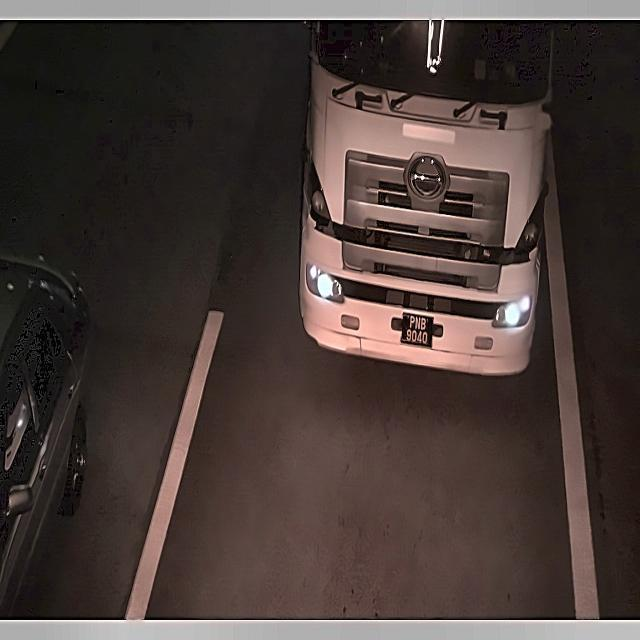car: (398, 310, 439, 350)
